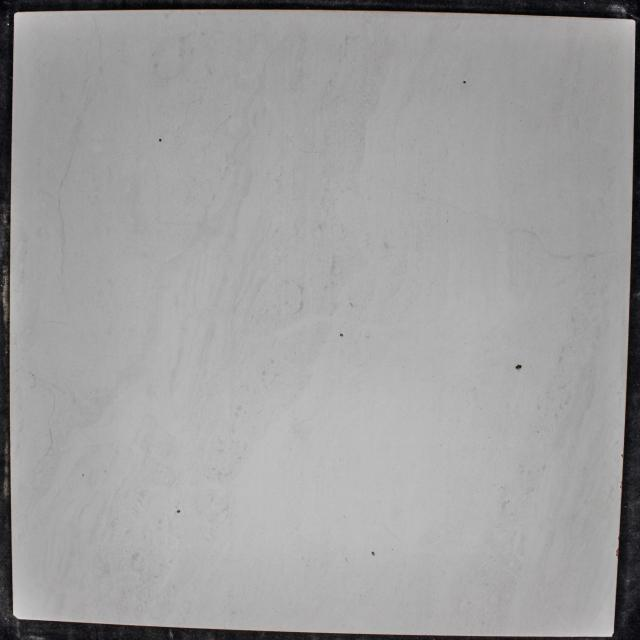edge-chipping: (615, 545, 620, 559), (12, 614, 19, 620)
hole: (515, 363, 523, 369), (338, 332, 344, 338), (370, 551, 376, 556), (176, 509, 181, 514), (158, 137, 162, 143), (462, 80, 467, 84)
